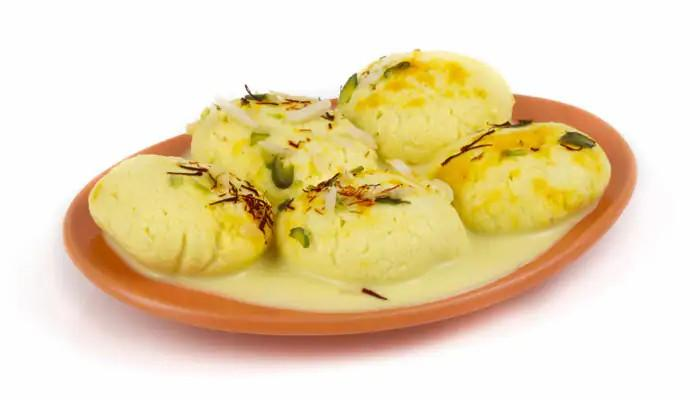RasMalai: (88, 46, 610, 313)
